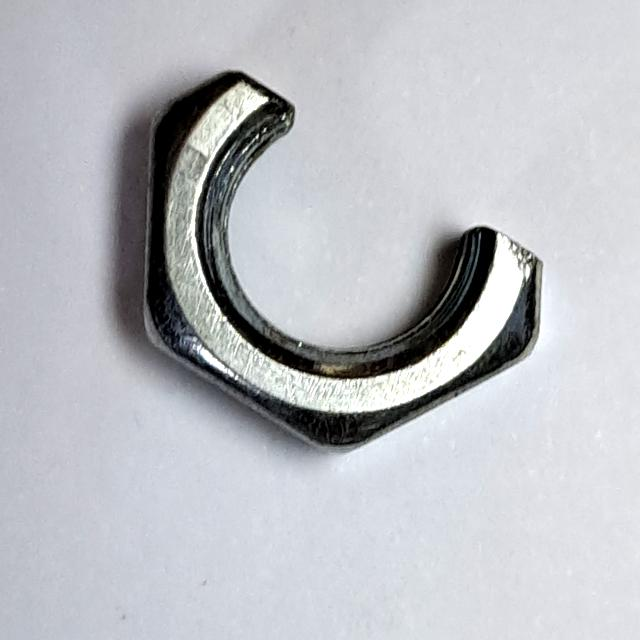Fracture: (122, 53, 560, 473)
